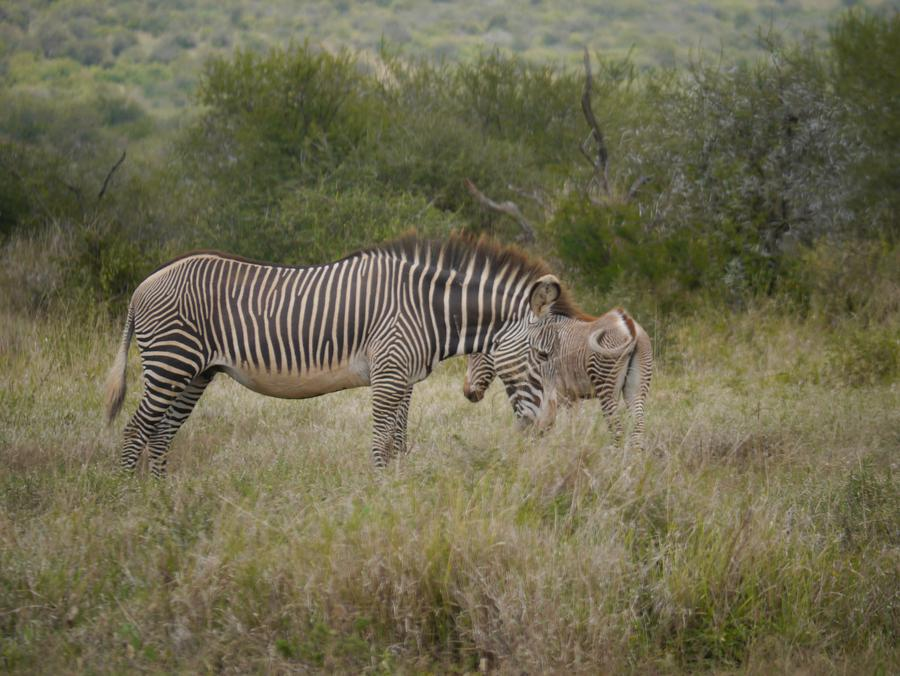zebra_grevys: (126, 253, 421, 383)
